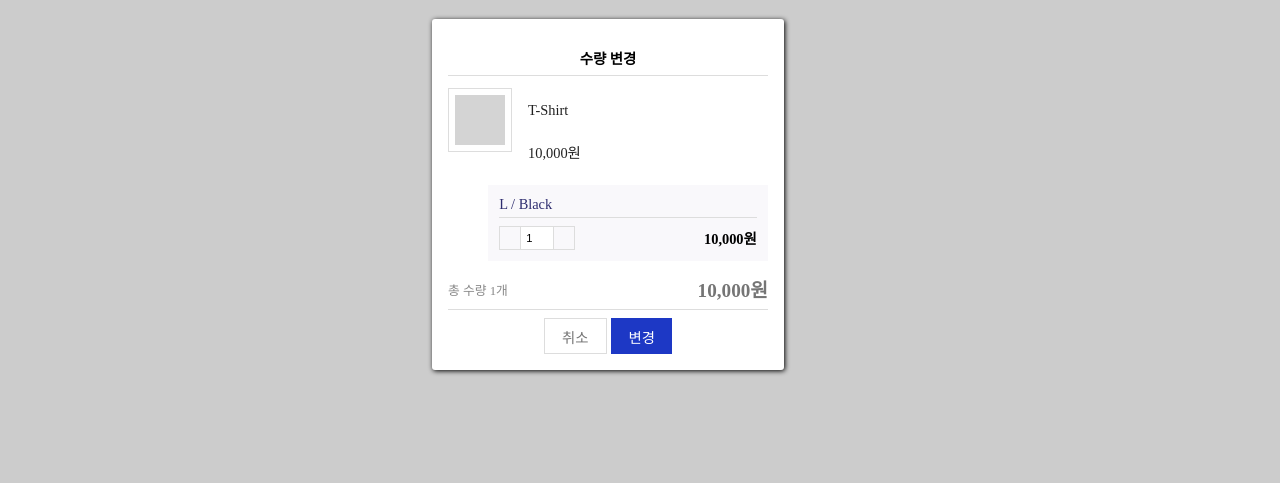
ChangeQuantityModal › 수량 변경 › 선택한 상품의 수량을 증가시키는 경우 › 상품 수량과 금액이 증가하는 것을 볼 수 있다
Expected: the number field showing "1" is shown, [520,227,554,249]
Expected: the text "총 수량 1개" is shown, [448,280,508,299]
Click the button "+" at (564, 237), box [554,227,574,247]
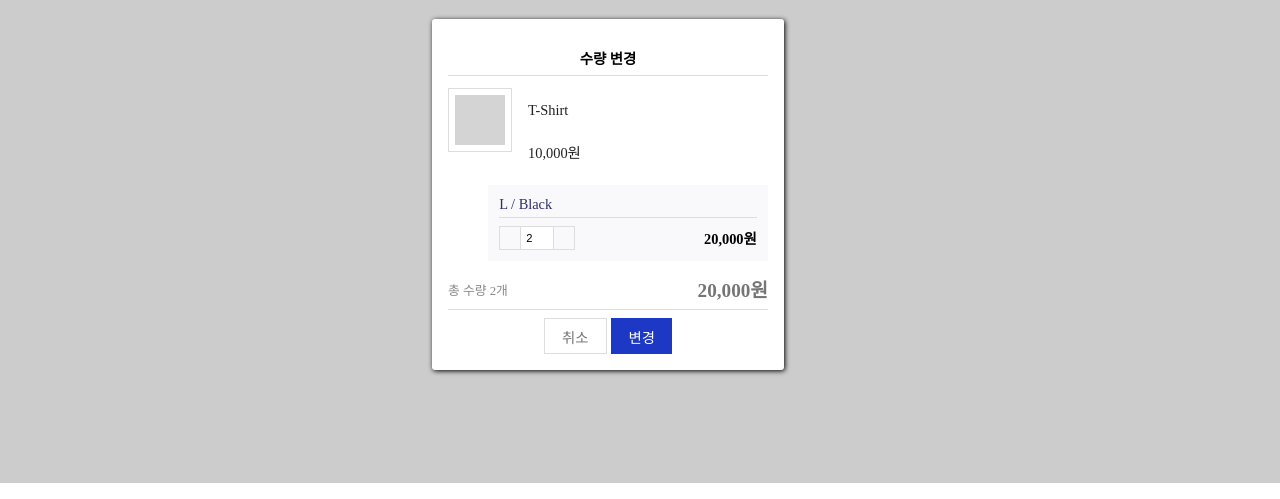
Now the number field showing "2" is shown, box [520,227,554,249]
Now the text "총 수량 2개" is shown, box [448,280,508,299]
